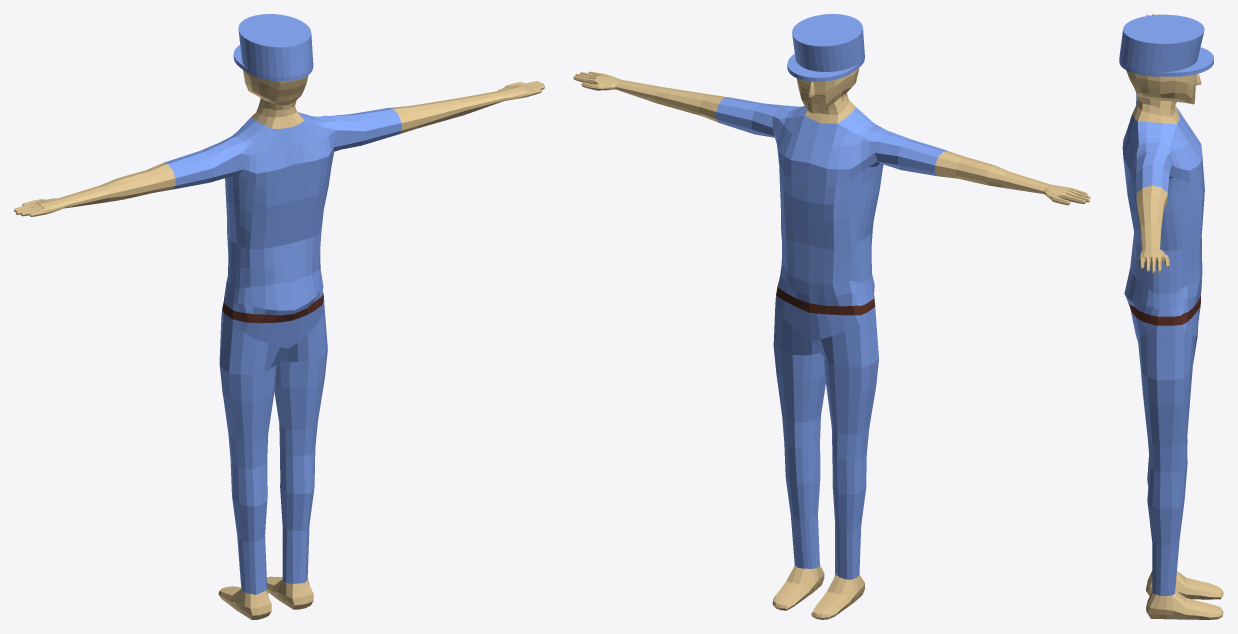
The model's file is guard1.fbx.
The picture shows the model from 3 angles, left to right: view 1: azimuth 30°, elevation 25°; view 2: azimuth 150°, elevation 25°; view 3: azimuth 270°, elevation 25°; orthographic projection. The views are drawn at different scales.
Parts seen in each view (by area): view 1: Guard1; view 2: Guard1; view 3: Guard1.
Part boxes in pixels (left/top/right/bottom): Guard1: left=14, top=14, right=544, bottom=619; Guard1: left=573, top=14, right=1090, bottom=619; Guard1: left=1119, top=14, right=1223, bottom=619.
Bounding box in the file's own units: 460 × 482 × 79.01.
